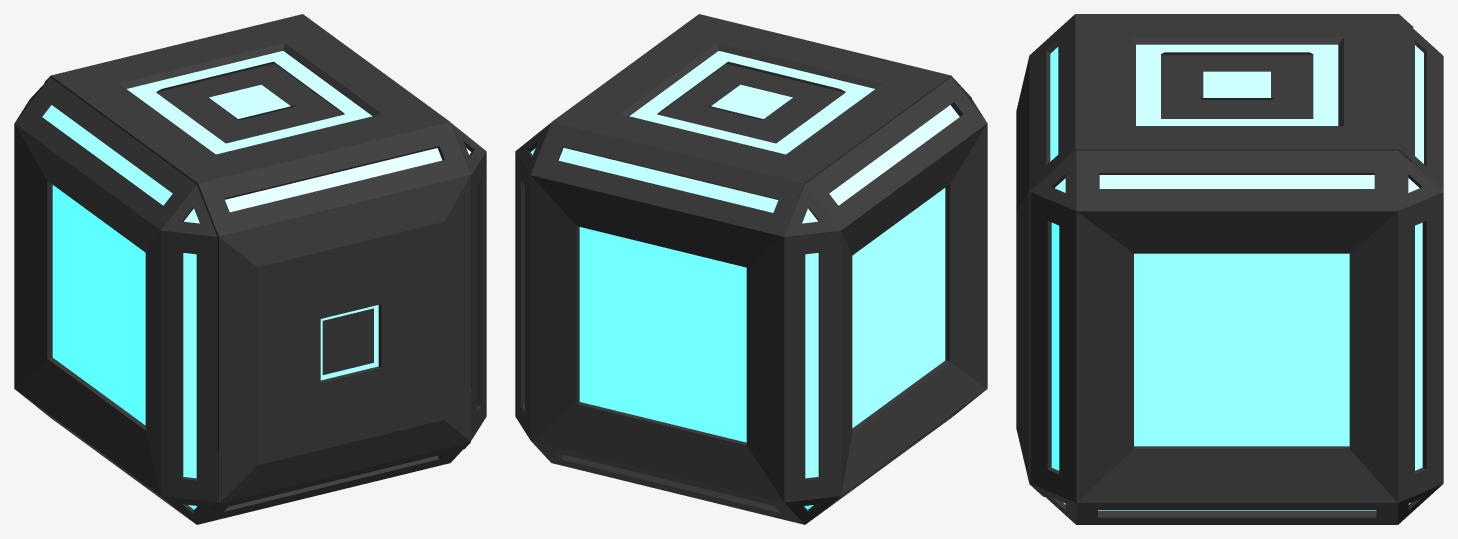
Rendered from Crate 3.fbx.
3 renders of one model, left to right at view 1: azimuth 30°, elevation 25°; view 2: azimuth 150°, elevation 25°; view 3: azimuth 270°, elevation 25°, orthographic. The views are drawn at different scales.
Parts seen in each view (by area): view 1: Cube.001, Cube; view 2: Cube, Cube.001; view 3: Cube, Cube.001.
Boxes of the visible parts, <box> form: Cube.001: <box>44,14,470,510</box>; Cube: <box>14,77,486,524</box>; Cube: <box>515,77,987,524</box>; Cube.001: <box>545,14,971,199</box>; Cube: <box>1030,29,1443,524</box>; Cube.001: <box>1016,14,1413,496</box>.
Size of the model in its own units: 200 by 201 by 207.
